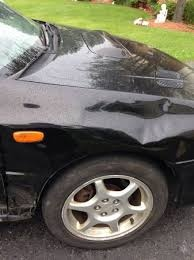Dent: (83, 98, 194, 145)
Smashed: (1, 183, 42, 221)
